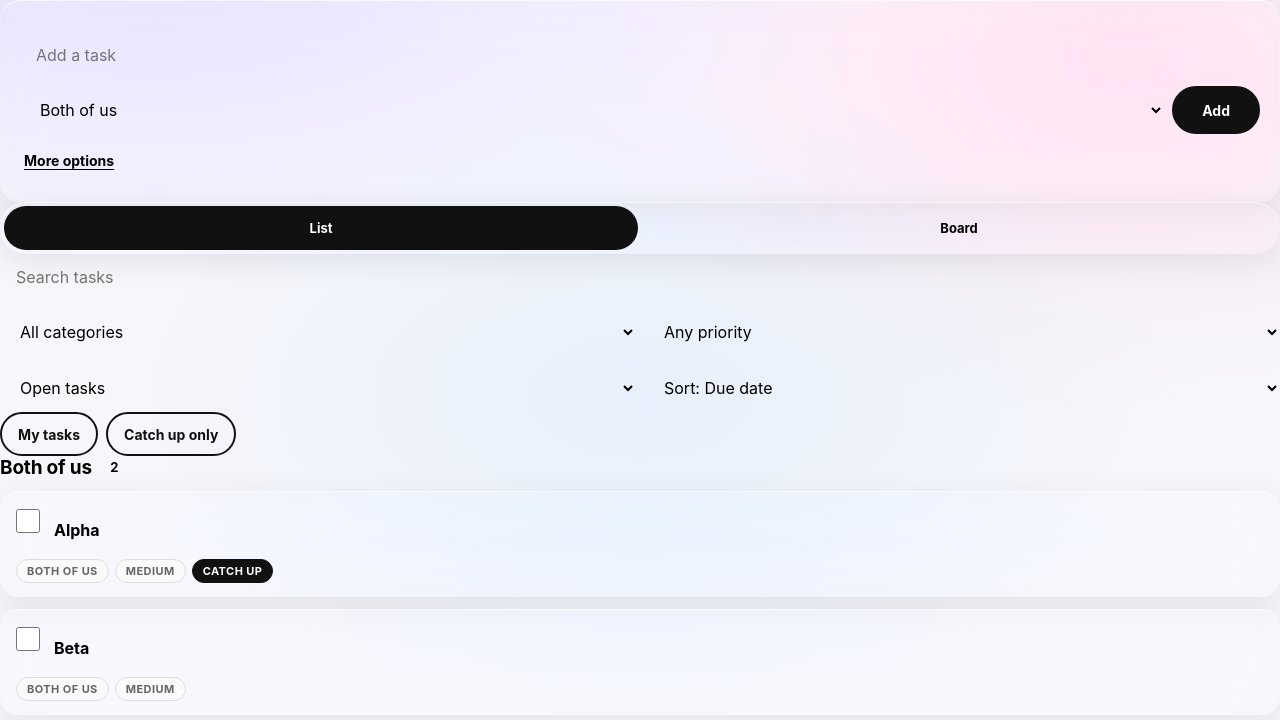
Test: filters and views › filters by catch up and by search, and shows an empty state
Expected: the button "Beta" is shown, [54,623,1264,667]
Click the button "Catch up only".
click(171, 434)  # box [106,412,236,456]
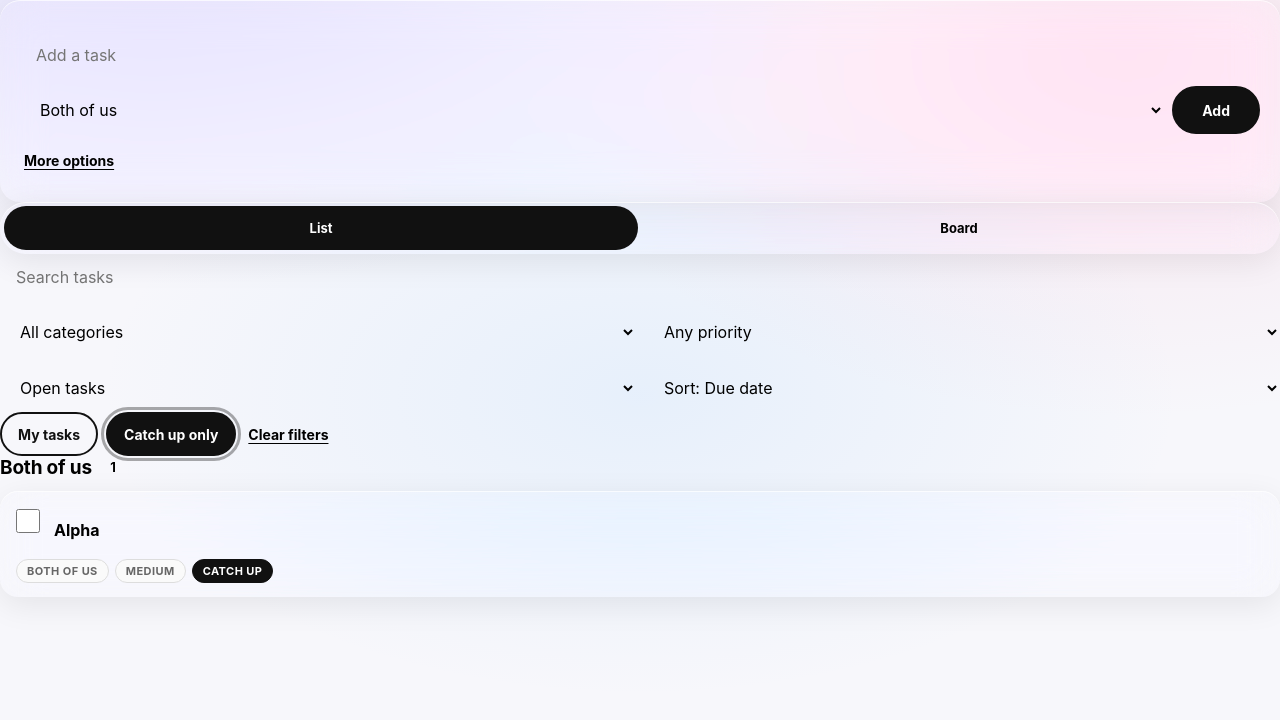
Expected: the button "Alpha" is shown, [54,505,1264,549]
Expected: the button "Beta" is gone
Type "zzz" into the search field labelled "Search tasks".
click(640, 277); type("zzz")  # box [0,254,1279,300]
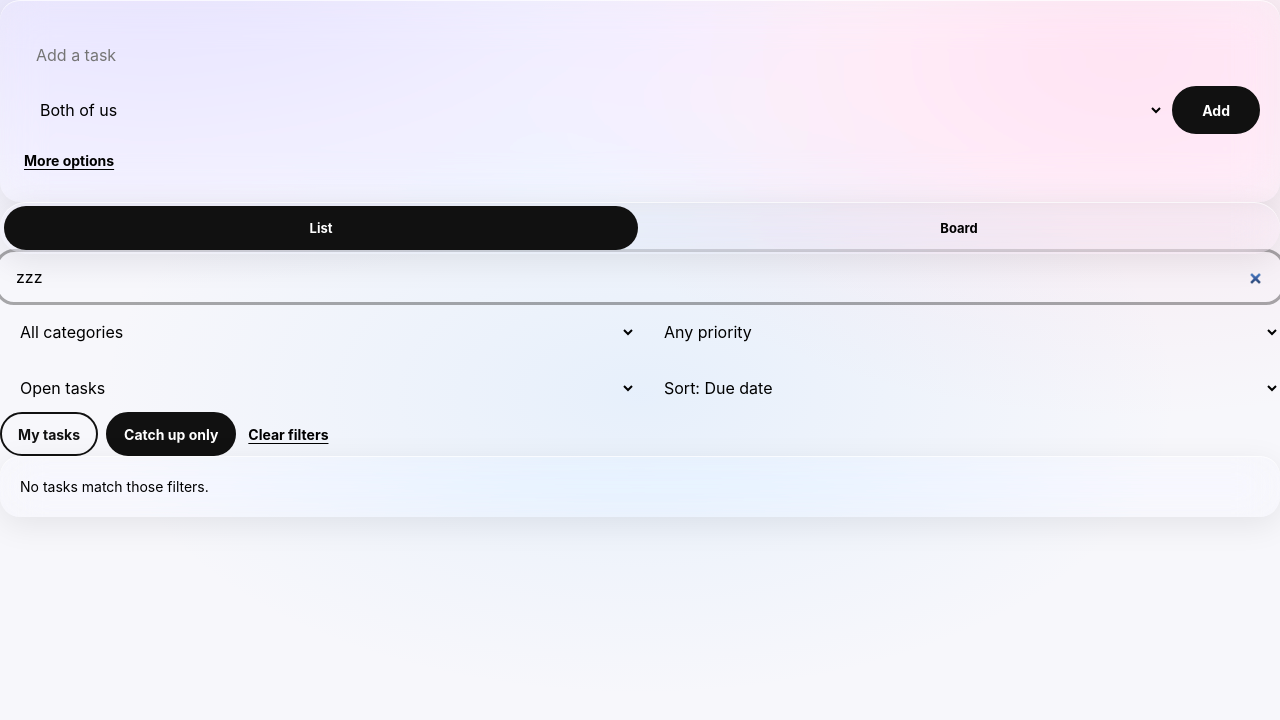
Expected: the text "No tasks match those filters." is shown, [20,478,209,495]
